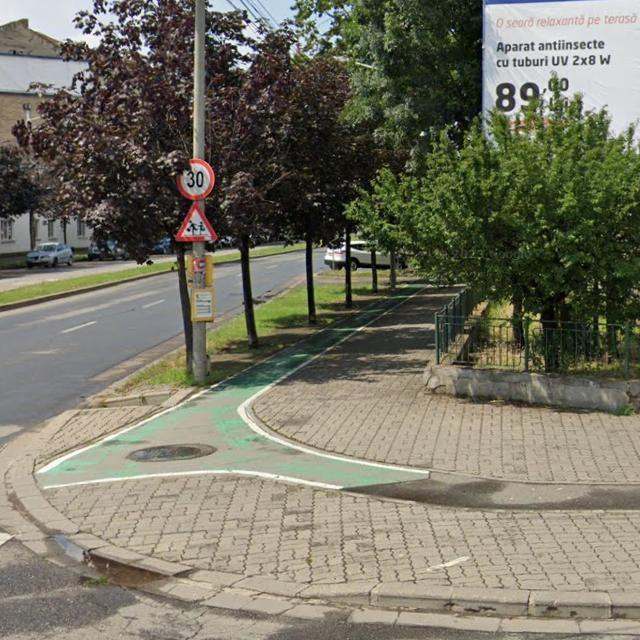forb_speed_over_30: (176, 159, 214, 201)
